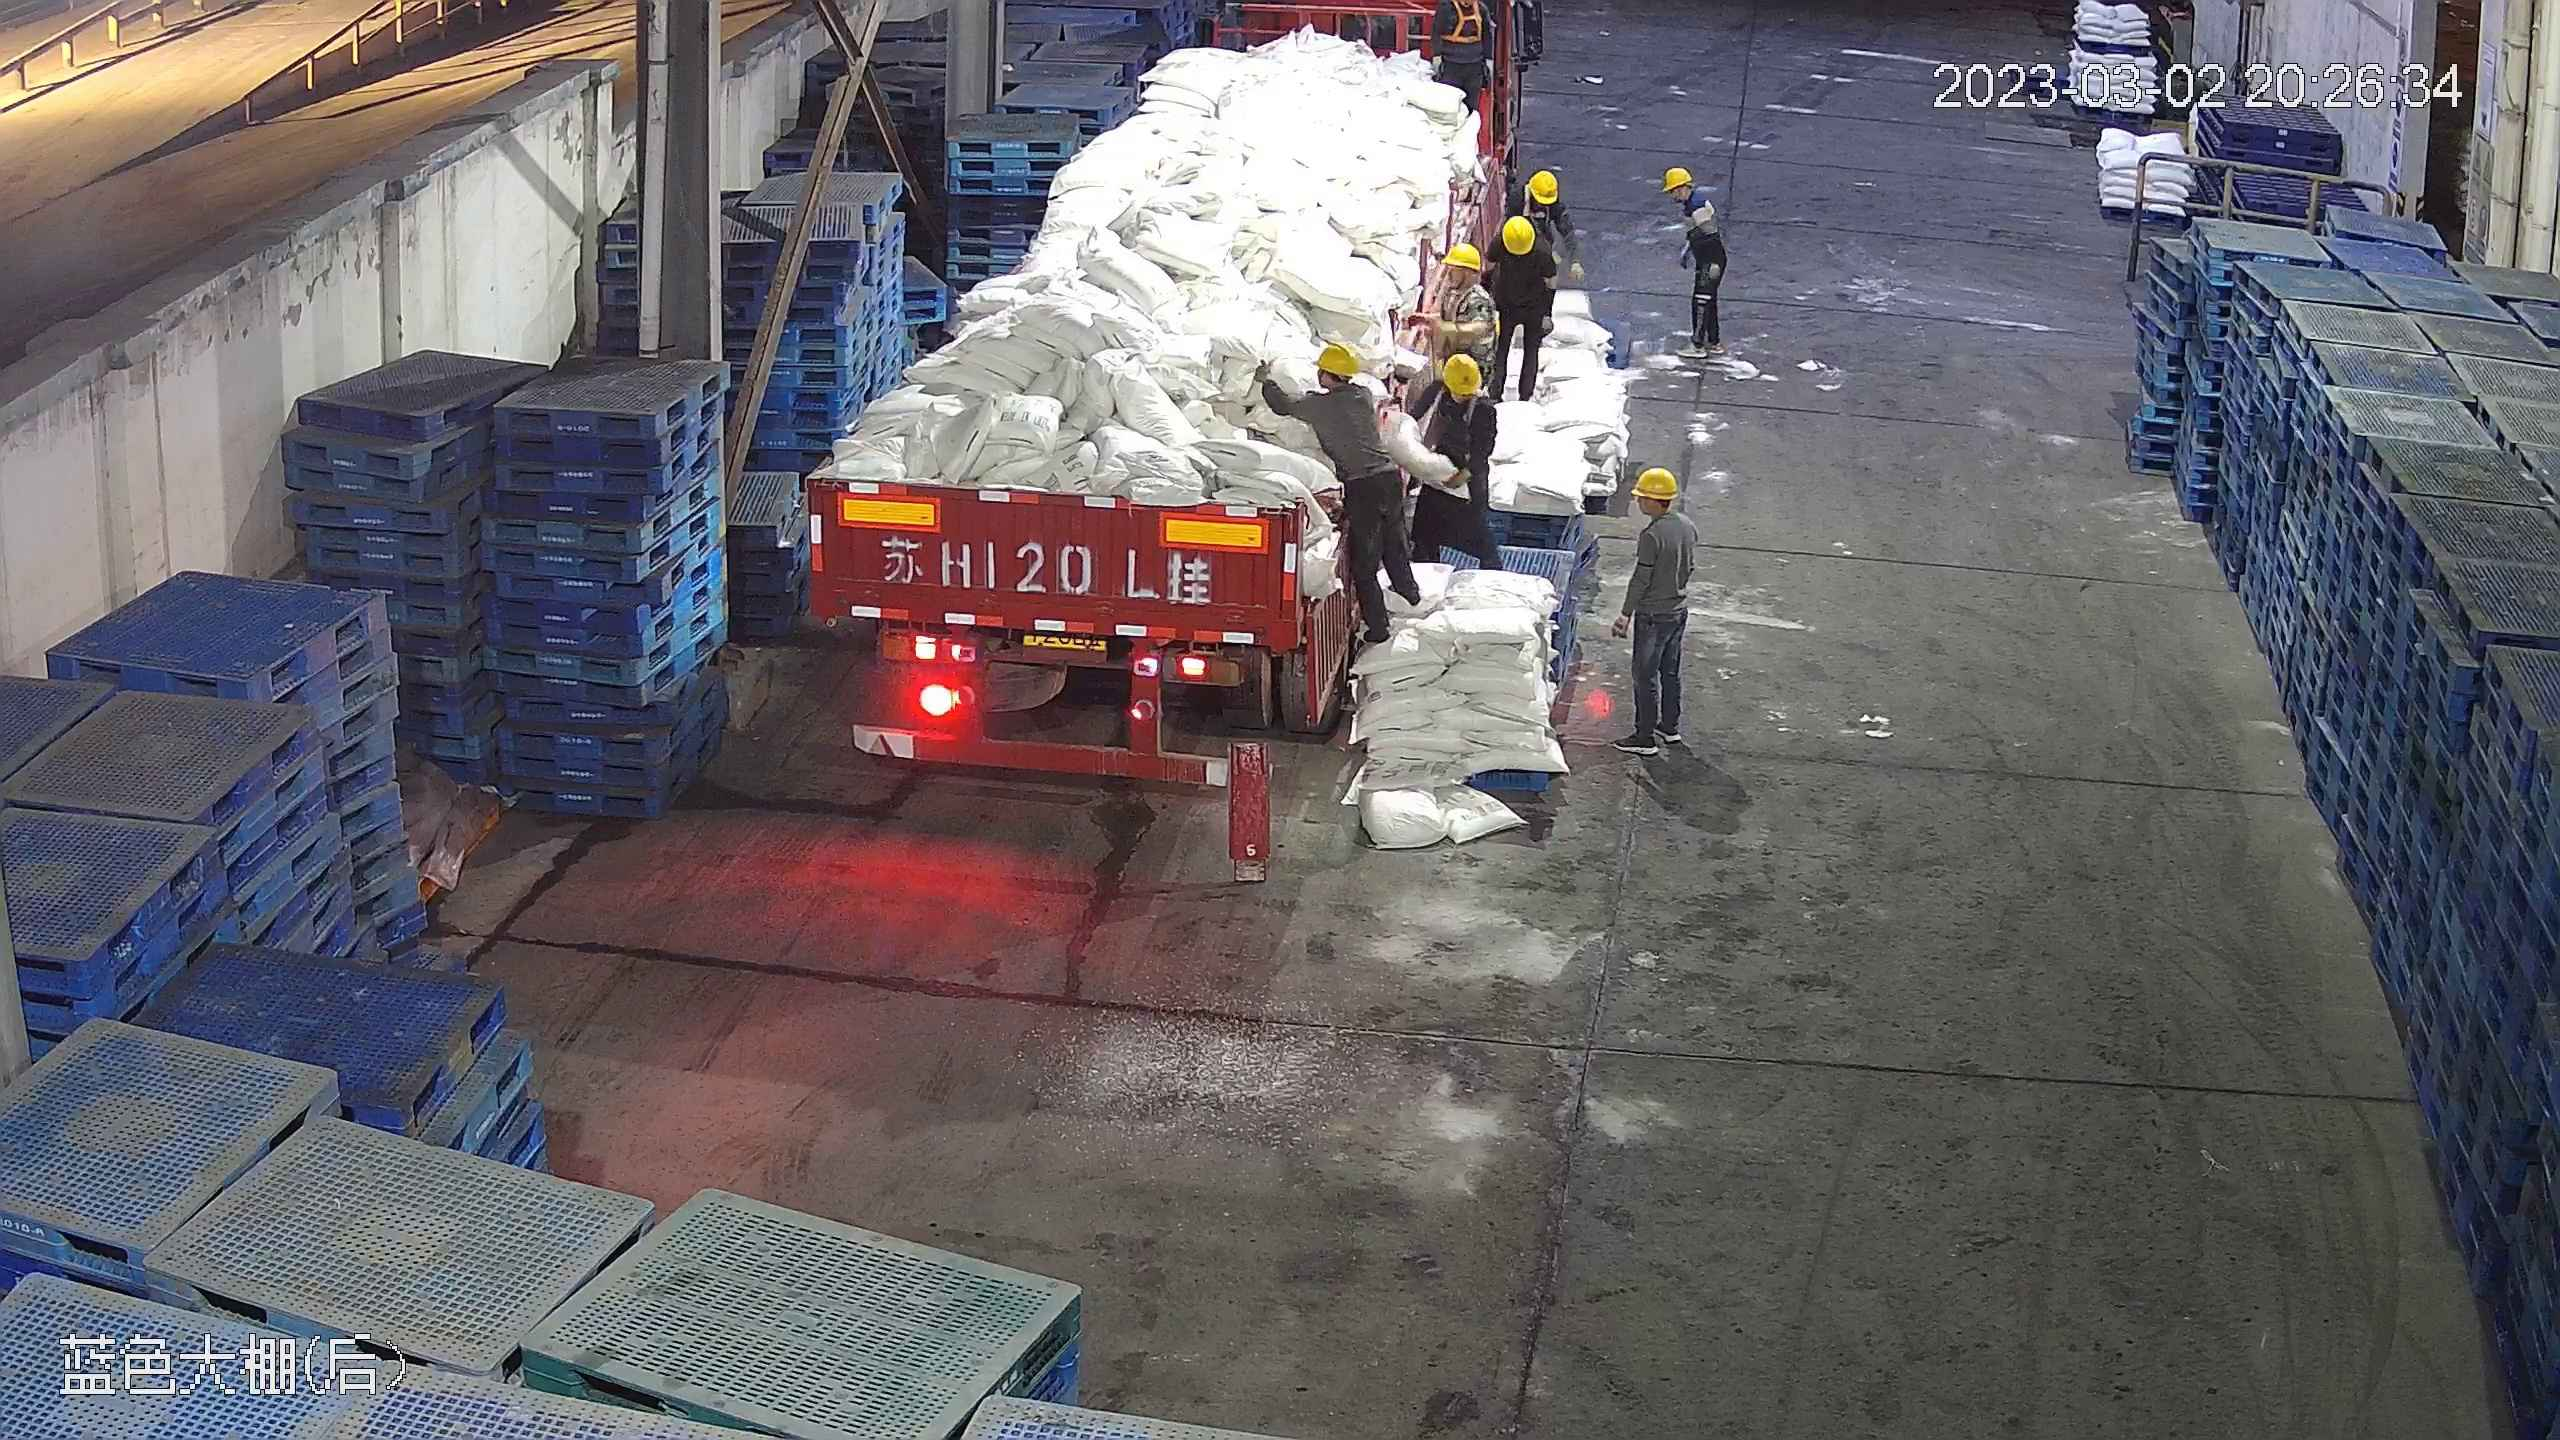belt: (1324, 373, 1400, 454), (1424, 383, 1482, 424), (1439, 3, 1487, 46), (1441, 280, 1481, 326), (1518, 184, 1556, 229)
head: (1294, 340, 1381, 433), (1409, 346, 1497, 429), (1418, 239, 1498, 323), (1628, 464, 1692, 564), (1495, 181, 1563, 268), (1509, 169, 1571, 237), (1661, 167, 1715, 228)
helmet: (1436, 351, 1483, 398), (1312, 339, 1359, 376), (1437, 234, 1486, 269), (1632, 465, 1676, 499), (1497, 220, 1536, 249), (1527, 168, 1561, 201), (1661, 165, 1693, 191)
people: (1255, 336, 1428, 649), (1396, 345, 1497, 588), (1620, 463, 1701, 751), (1488, 182, 1565, 400), (1668, 167, 1728, 360)
truck: (786, 9, 1505, 780)
